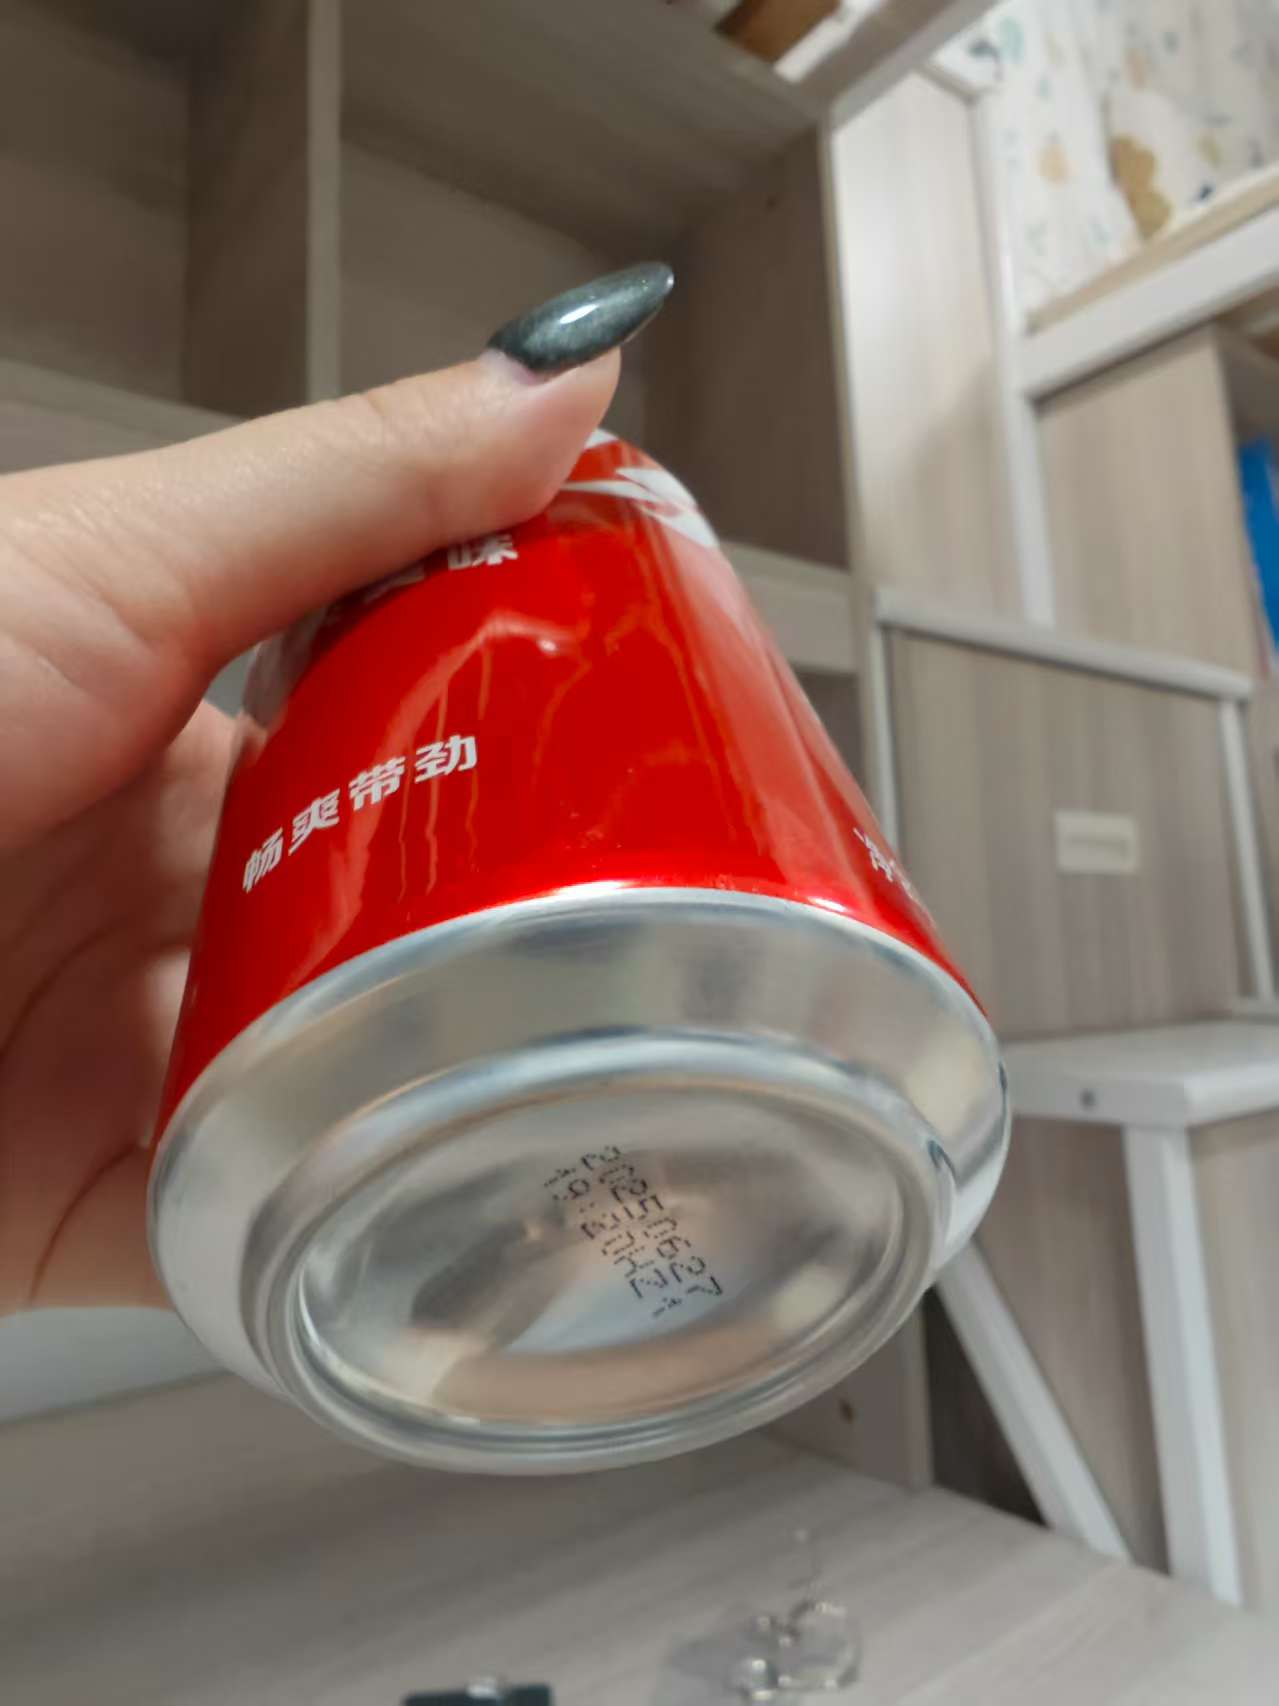可乐: (148, 359, 1034, 1514)
